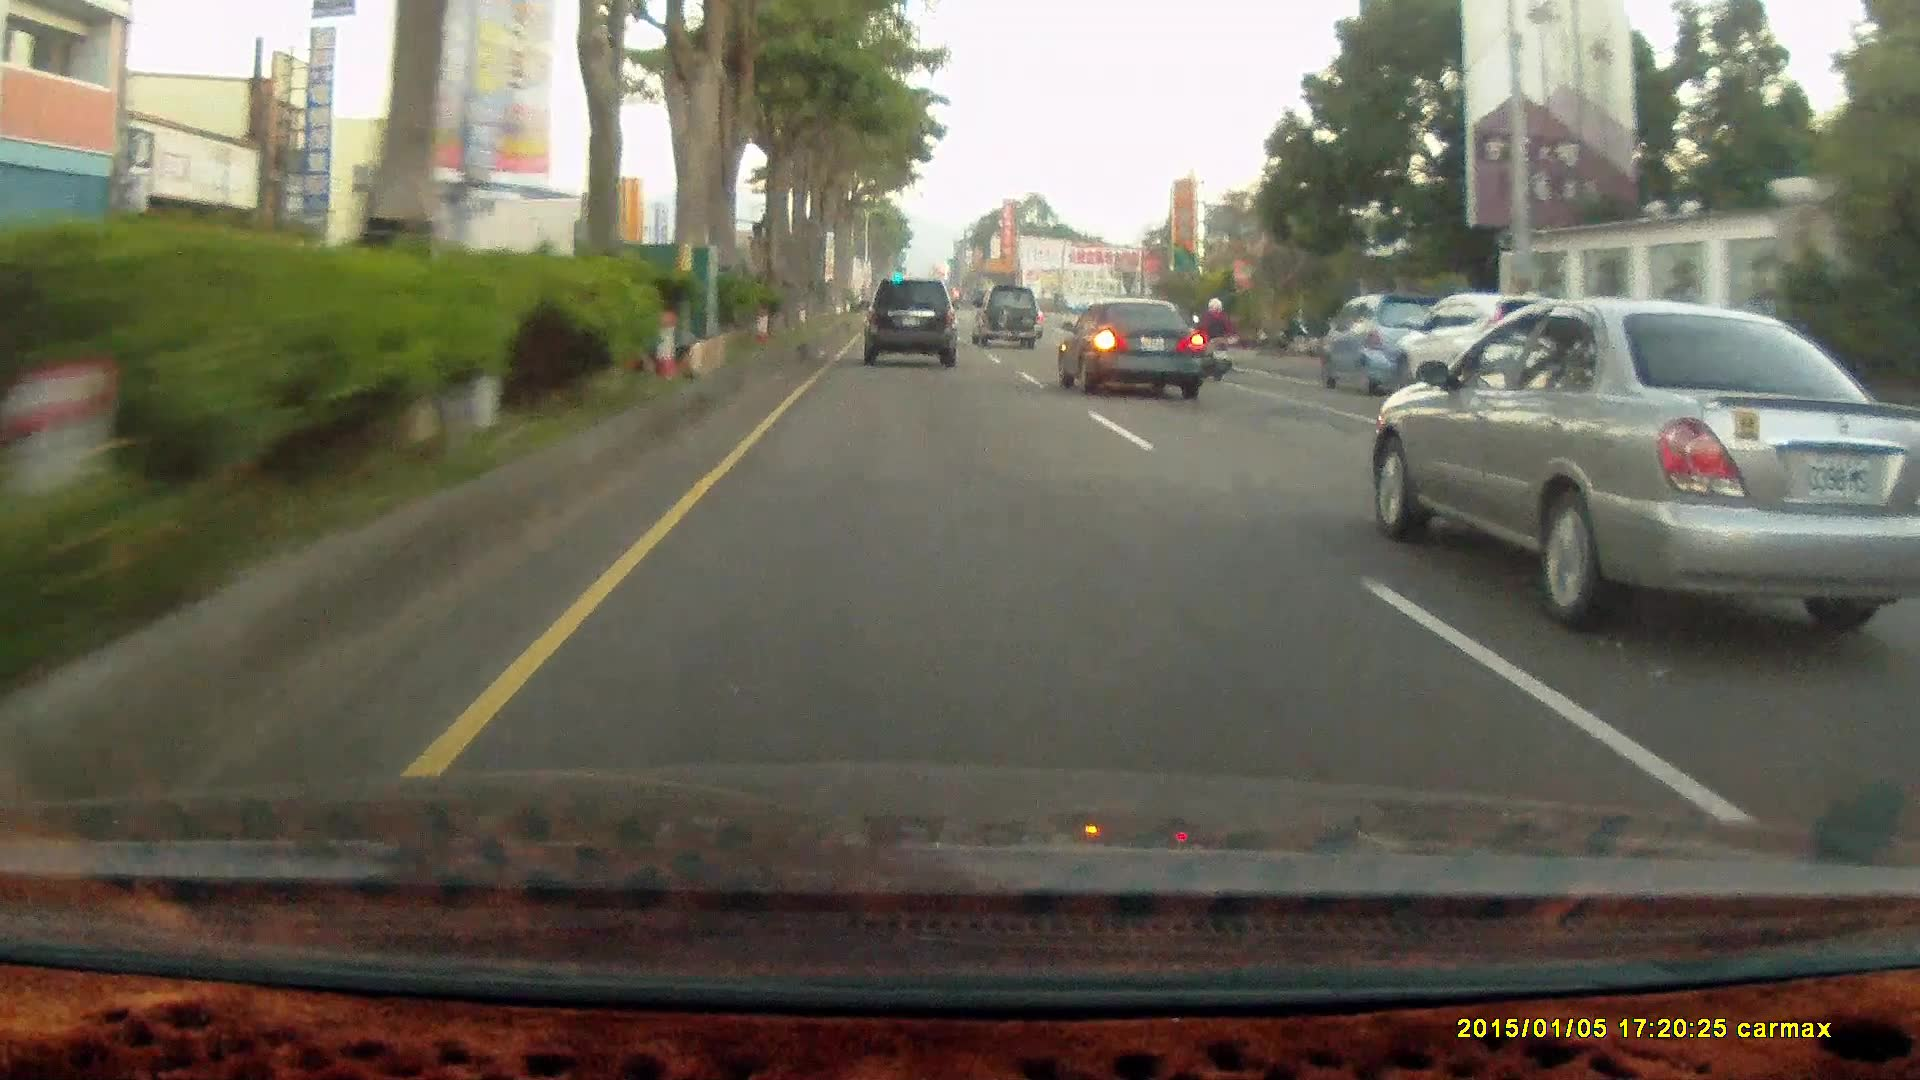rider: (1196, 296, 1237, 382)
vehicle: (1372, 299, 1920, 623), (1389, 293, 1577, 402), (1055, 295, 1205, 396), (1060, 293, 1209, 389), (1318, 294, 1461, 392), (860, 272, 965, 368), (859, 277, 957, 365), (973, 284, 1045, 351), (971, 283, 1040, 348)
